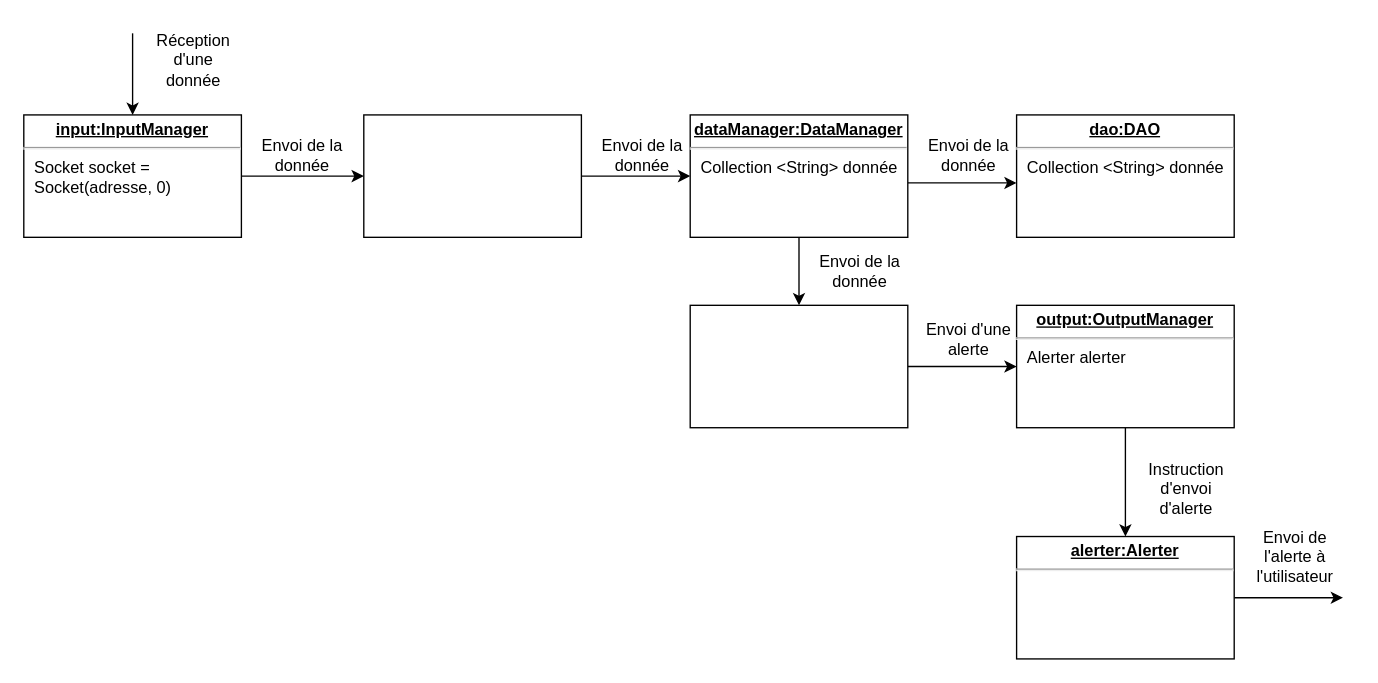
Some shapes in this 1378 by 683 pixel diagram are drawn without their labels. Here are the shapes that lost their labels. From the top down, the centre of each, then its label:
At point (471, 175): "logManager:LogManager String donnée".
At point (798, 366): "analyzer:Analyzer ClassificationModel model Seq [String] donnée".
